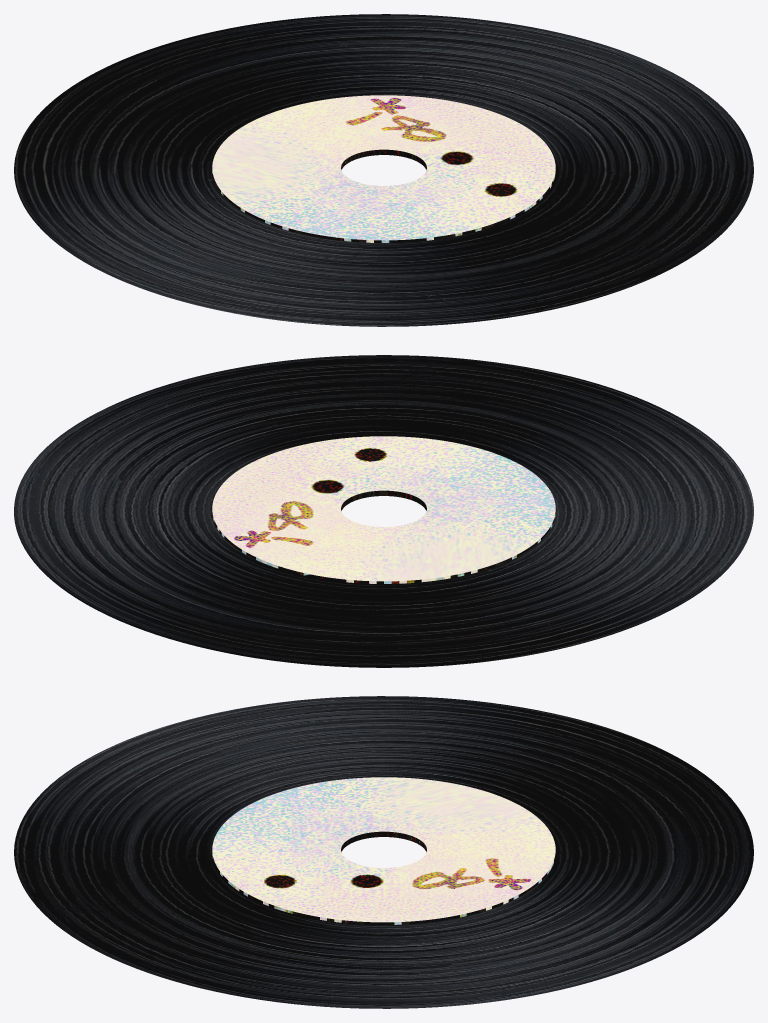
The model's file is record.glb.
3 renders of one model, top to bottom at view 1: azimuth 30°, elevation 25°; view 2: azimuth 150°, elevation 25°; view 3: azimuth 270°, elevation 25°, orthographic.
Parts seen in each view (by area): view 1: Circle.001; view 2: Circle.001; view 3: Circle.001.
Boxes of the visible parts, left/top/right/bottom form: Circle.001: left=14, top=14, right=753, bottom=326; Circle.001: left=14, top=355, right=753, bottom=667; Circle.001: left=14, top=696, right=753, bottom=1008.
Bounding box in the file's own units: 1.92 × 0.0152 × 1.92.
2 materials, 2 textured.
